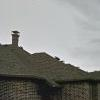Chimney: (10, 20, 22, 55)
